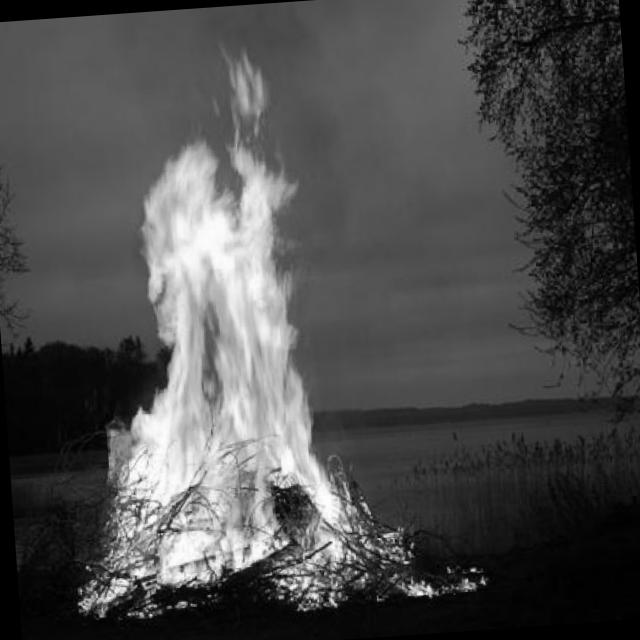fire: (75, 81, 350, 523)
